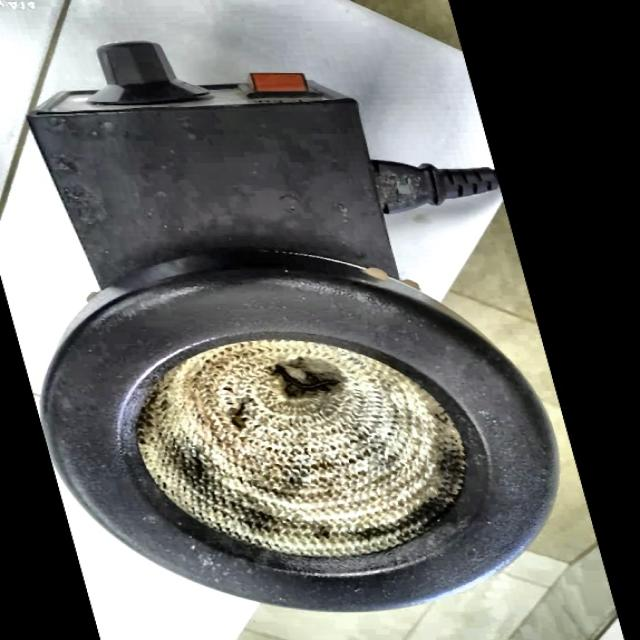Heating Source: (0, 42, 603, 615)
